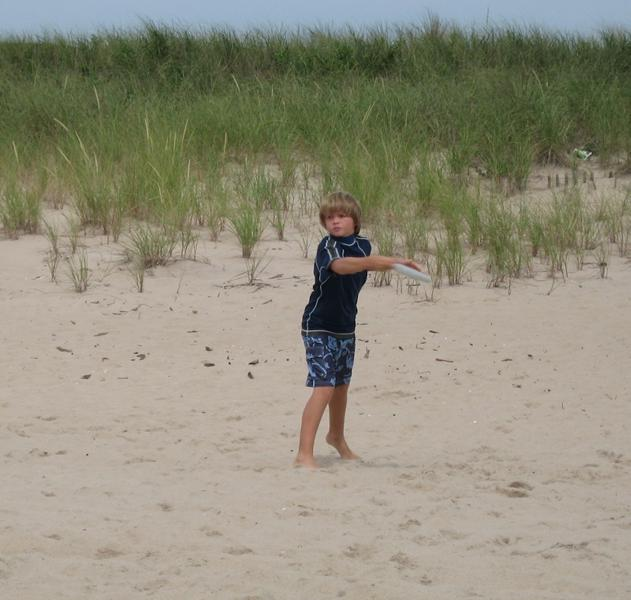person: (293, 194, 424, 471)
